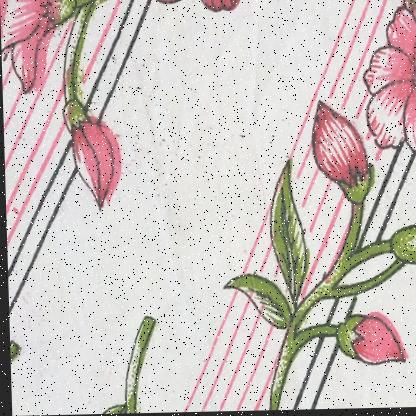spot: (132, 130, 148, 156), (211, 191, 231, 207), (154, 131, 168, 147), (109, 51, 120, 71), (187, 81, 197, 100), (267, 130, 275, 148), (189, 194, 200, 206), (240, 246, 249, 260), (200, 168, 210, 179), (236, 129, 245, 141), (133, 83, 142, 93), (159, 181, 170, 189), (254, 193, 262, 203), (173, 149, 179, 161), (83, 50, 89, 61), (196, 153, 202, 164)
